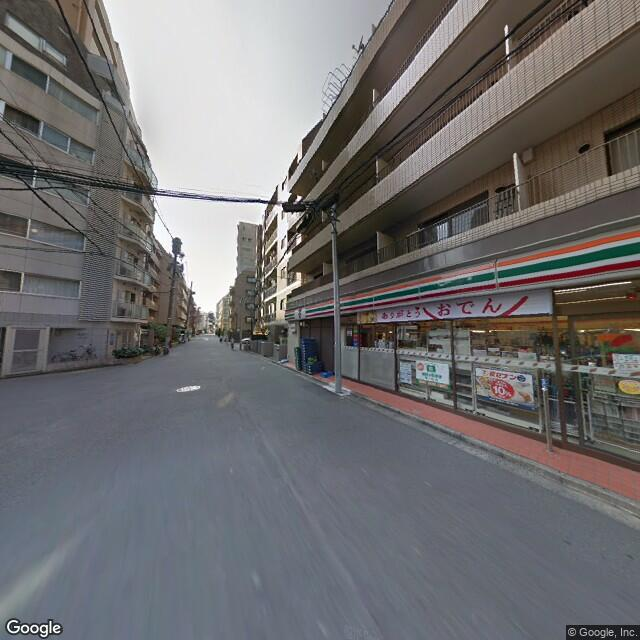7-eleven: (283, 217, 639, 326)
